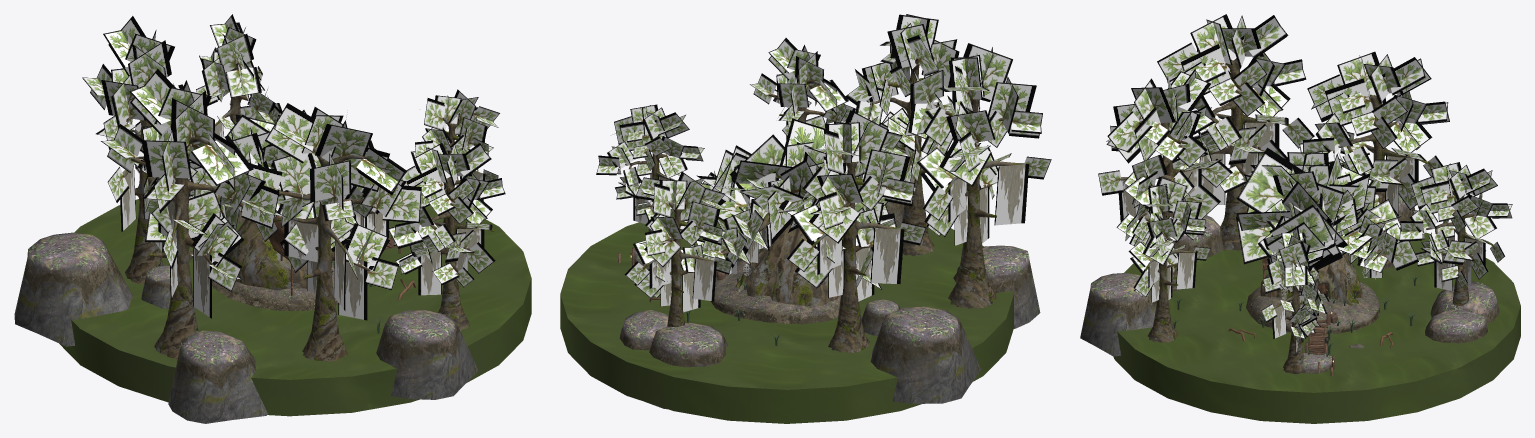
The model's file is Swamp.fbx.
3 renders of one model, left to right at view 1: azimuth 30°, elevation 25°; view 2: azimuth 150°, elevation 25°; view 3: azimuth 270°, elevation 25°, orthographic. The views are drawn at different scales.
Parts seen in each view (by area): view 1: water_geo, ground_retopo_geo23, ground_retopo_geo22, ground_retopo_geo21, hero_geo4, tree_geo2, tree_geo3, tree_geo4, tree_geo1, polySurface190, polySurface118, polySurface148 (+43 smaller); view 2: water_geo, ground_retopo_geo23, hero_geo4, tree_geo3, tree_geo4, ground_retopo_geo22, ground_retopo_geo25, polySurface111, tree_geo2, polySurface58, ground_retopo_geo26, tree_geo5 (+48 smaller); view 3: water_geo, hero_geo4, ground_retopo_geo21, tree_geo3, Leaf_geo199, ground_retopo_geo26, ground_retopo_geo25, tree_geo1, polySurface63, ground_retopo_geo22, tree_geo4, polySurface64 (+66 smaller).
Boxes of the visible parts, x1,y1,x2,y2 form: water_geo: (59,199,531,416); ground_retopo_geo23: (14,232,133,346); ground_retopo_geo22: (168,330,267,423); ground_retopo_geo21: (376,310,478,399); hero_geo4: (212,210,379,310); tree_geo2: (274,147,374,361); tree_geo3: (131,132,243,358); tree_geo4: (123,115,163,284); tree_geo1: (419,174,494,330); polySurface190: (265,103,313,163); polySurface118: (191,135,253,185); polySurface148: (141,140,191,178); water_geo: (560,212,1013,423); ground_retopo_geo23: (870,306,981,403); hero_geo4: (710,212,840,324); tree_geo3: (945,91,1024,308); tree_geo4: (812,154,899,352); ground_retopo_geo22: (953,245,1040,328); ground_retopo_geo25: (646,323,727,409); polySurface111: (994,164,1028,225); tree_geo2: (870,58,939,256); polySurface58: (870,228,904,283); ground_retopo_geo26: (619,310,668,350); tree_geo5: (642,202,714,326); water_geo: (1113,232,1520,423); hero_geo4: (1246,249,1387,333); ground_retopo_geo21: (1080,273,1156,356); tree_geo3: (1203,53,1290,250); Leaf_geo199: (1237,147,1304,212); ground_retopo_geo26: (1425,309,1487,343); ground_retopo_geo25: (1430,281,1499,323); tree_geo1: (1144,206,1195,342); polySurface63: (1325,78,1374,126); ground_retopo_geo22: (1175,215,1223,257); tree_geo4: (1338,89,1427,269); polySurface64: (1337,51,1379,98).
Size of the model in its own units: 93.64 by 62.83 by 95.05.
13 materials, 13 textured.
